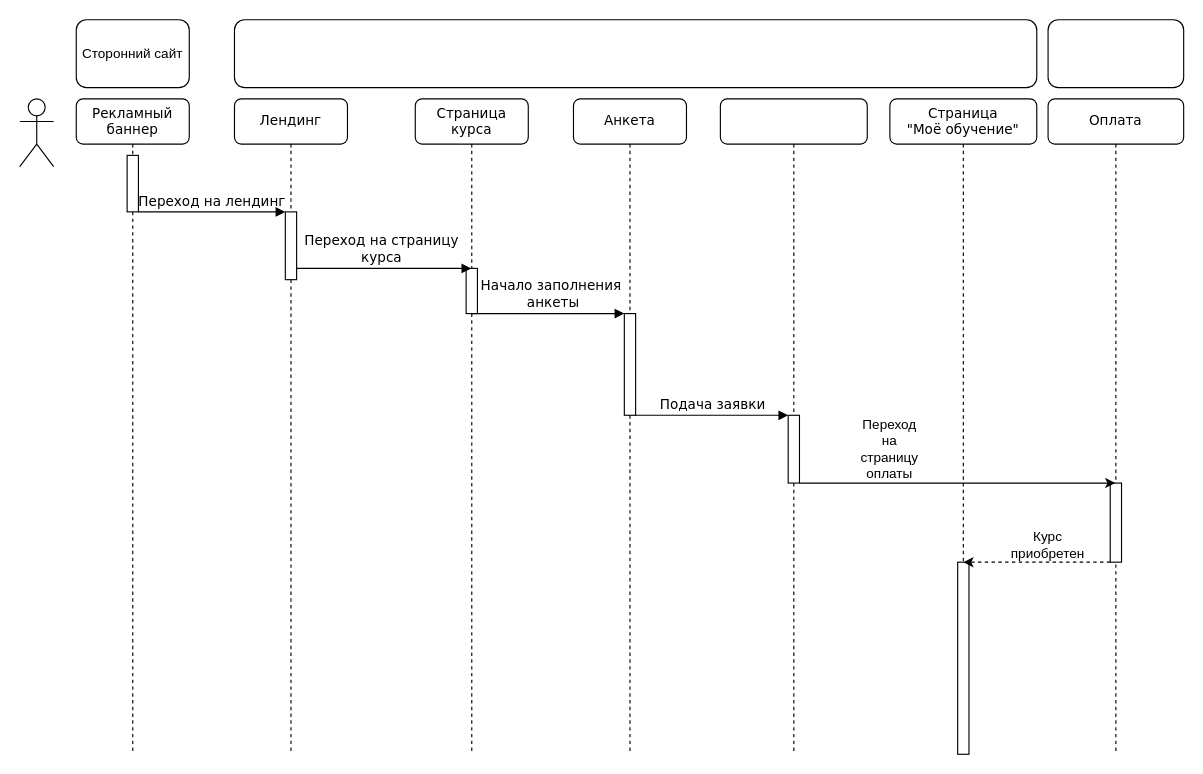
Image size: 1203x774. Some labels were removed from this diagram. Each missing label, with the centre of its shape:
Защищенная форма оплаты на сайте банка: the point at 1115,53
Обр. портал GeekBrains: the point at 635,53
Общение с менеджером: the point at 793,426
